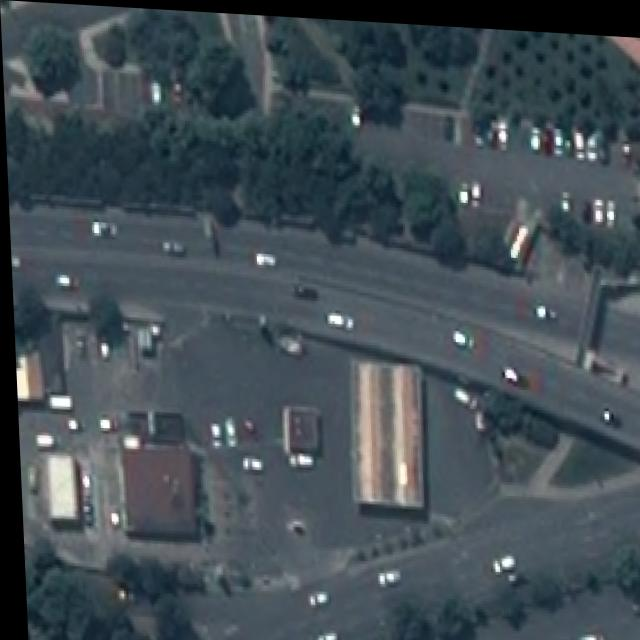Batiment: (353, 358, 418, 505), (121, 412, 194, 540), (279, 403, 316, 465), (45, 455, 72, 519), (13, 352, 40, 402)
